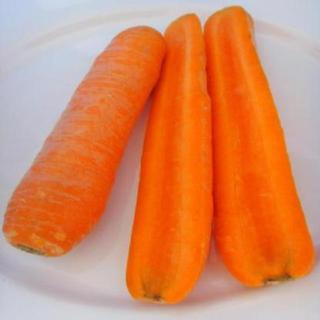carrot: (0, 21, 172, 259), (208, 5, 316, 285), (126, 10, 212, 306)
